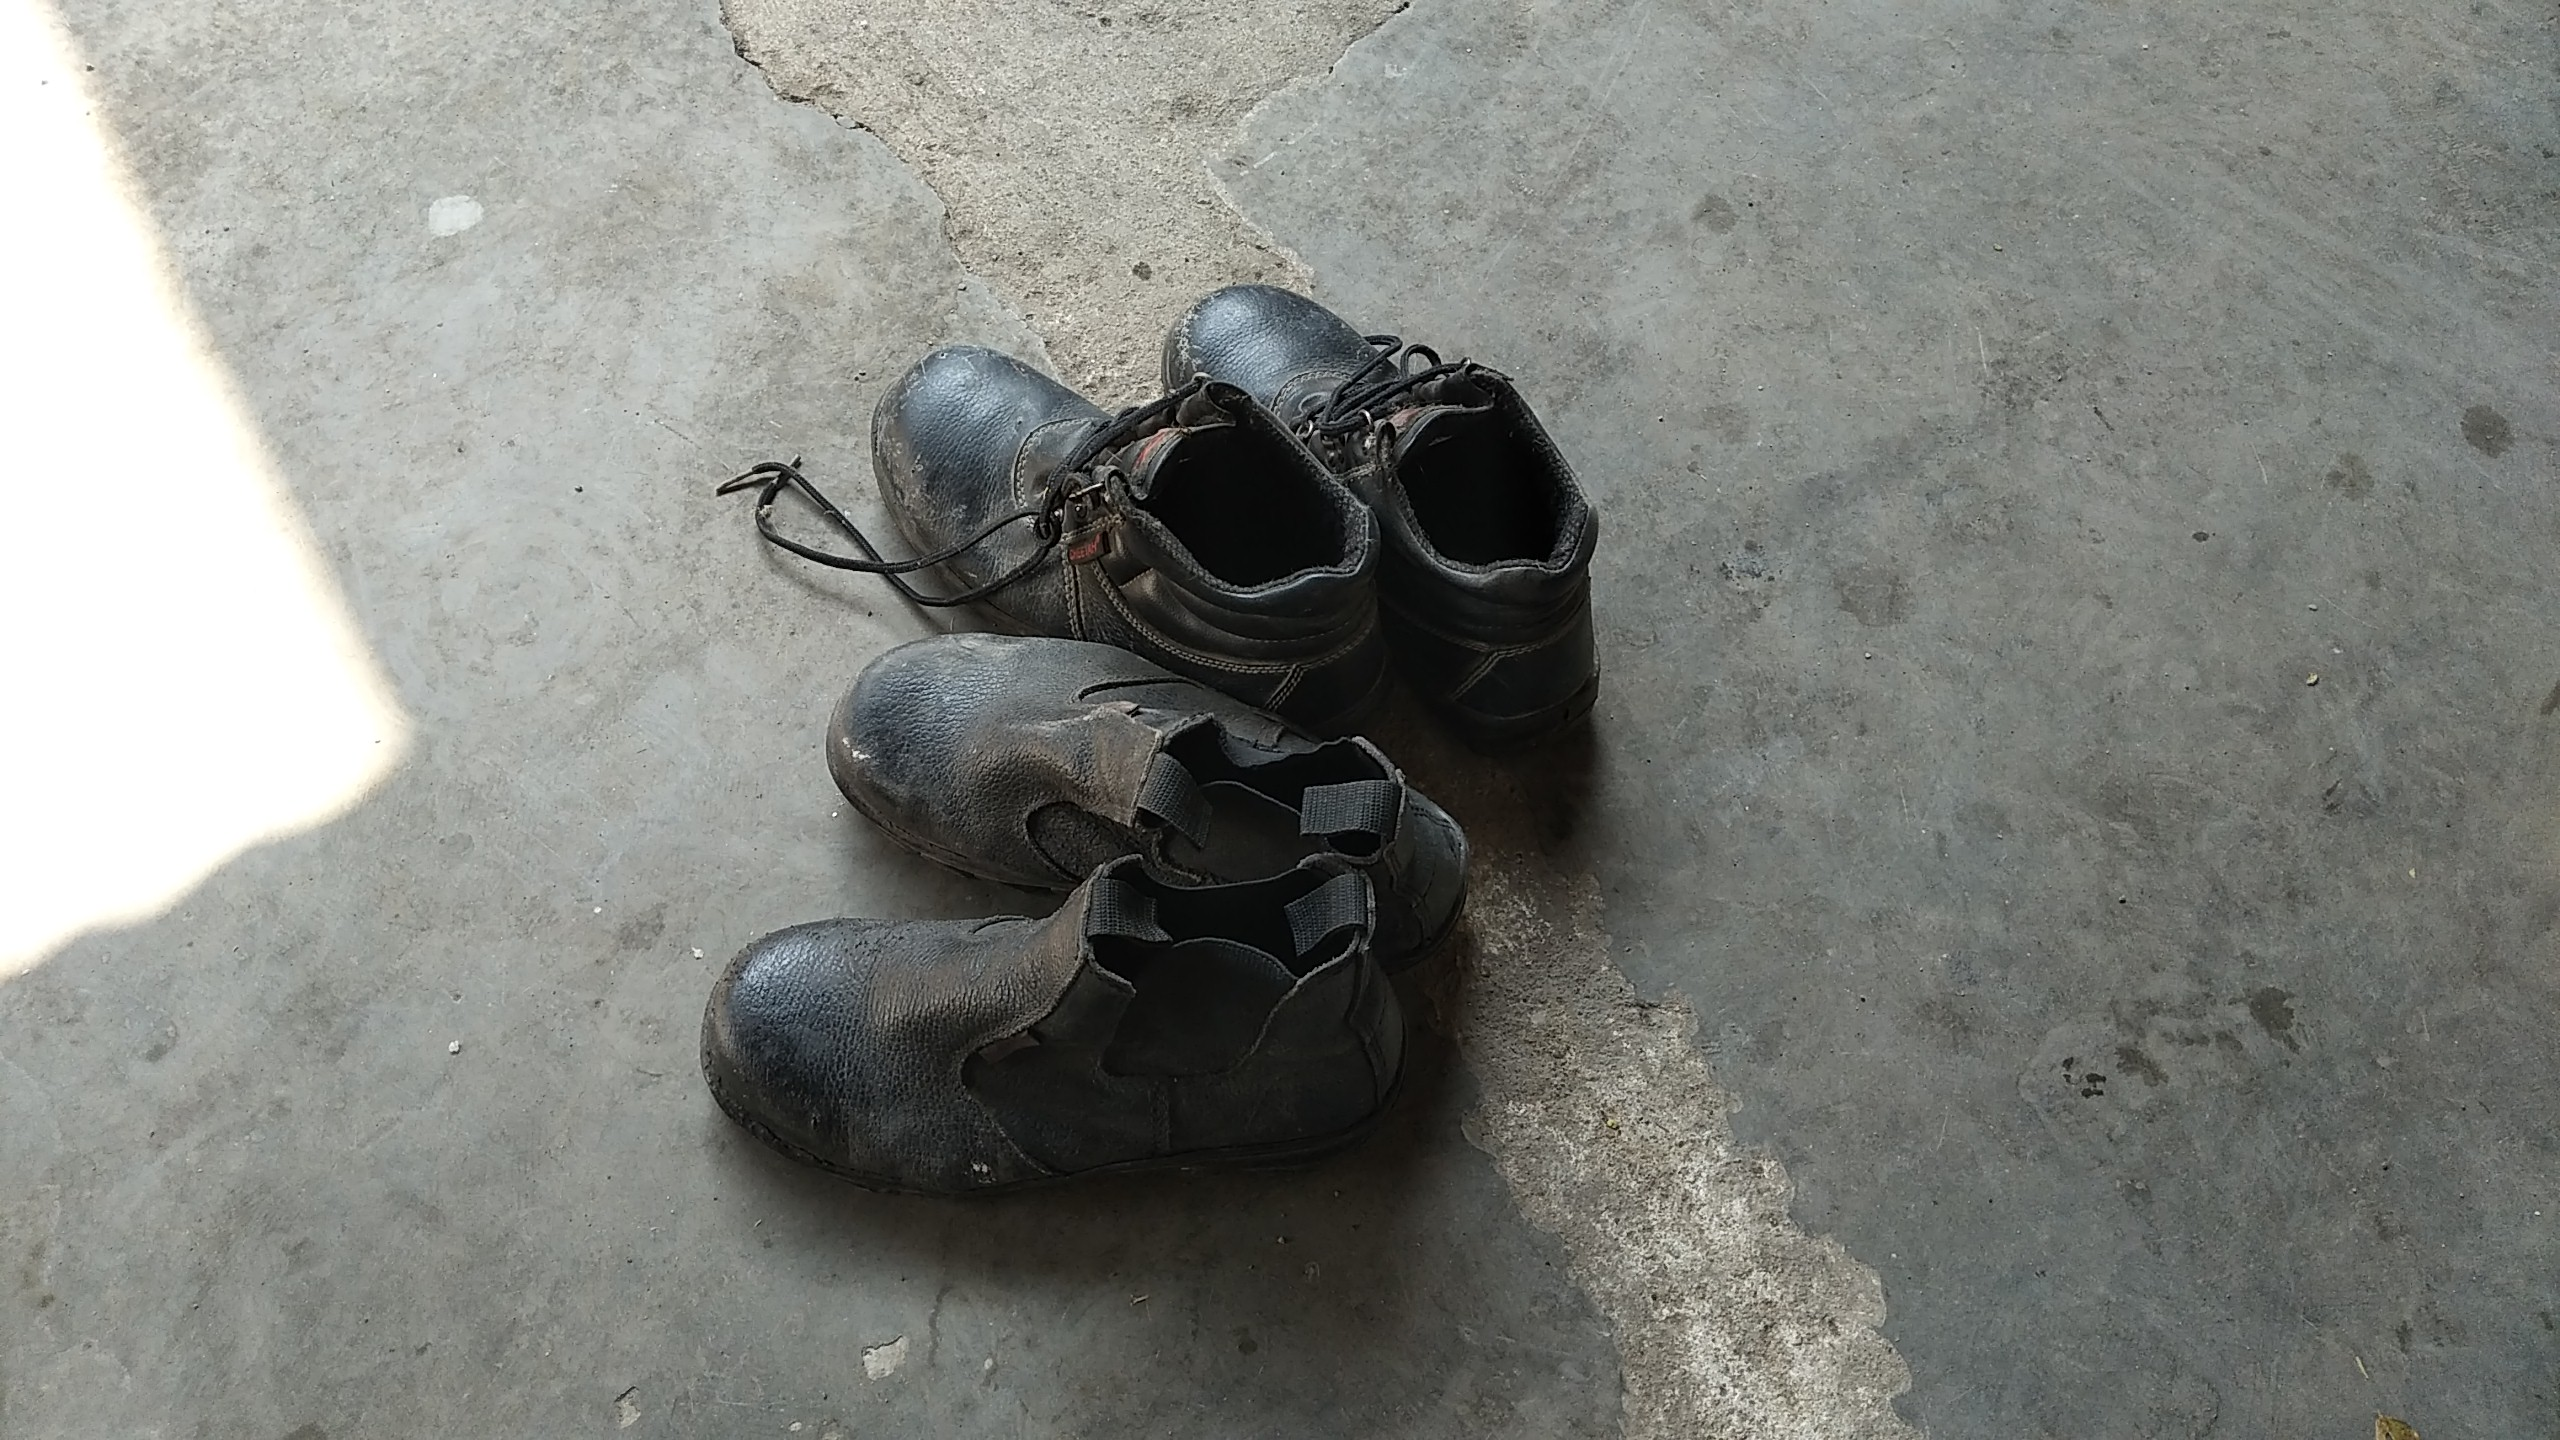SEPATU: (791, 709, 1412, 1183)
